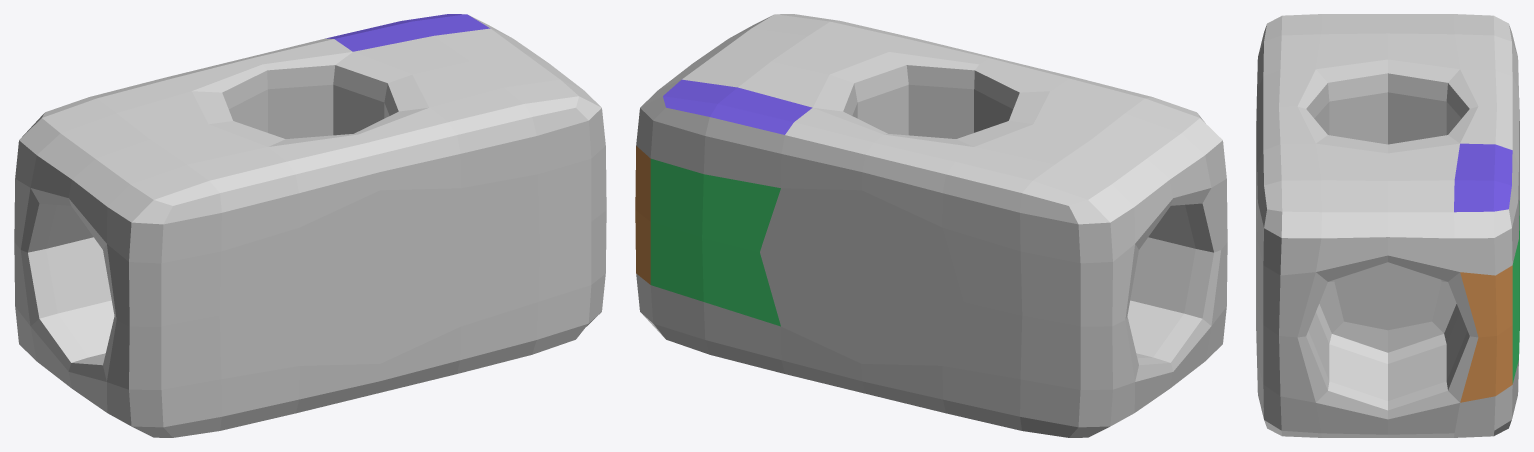
The picture shows the model from 3 angles, left to right: view 1: azimuth 30°, elevation 25°; view 2: azimuth 150°, elevation 25°; view 3: azimuth 270°, elevation 25°; orthographic projection. The views are drawn at different scales.
Parts seen in each view (by area): view 1: Base2; view 2: Base2; view 3: Base2.
Boxes of the visible parts, x1,y1,x2,y2 form: Base2: [14, 14, 606, 437]; Base2: [635, 14, 1227, 437]; Base2: [1256, 14, 1519, 437].
Bounding box in the file's own units: 2 × 1 × 1.
